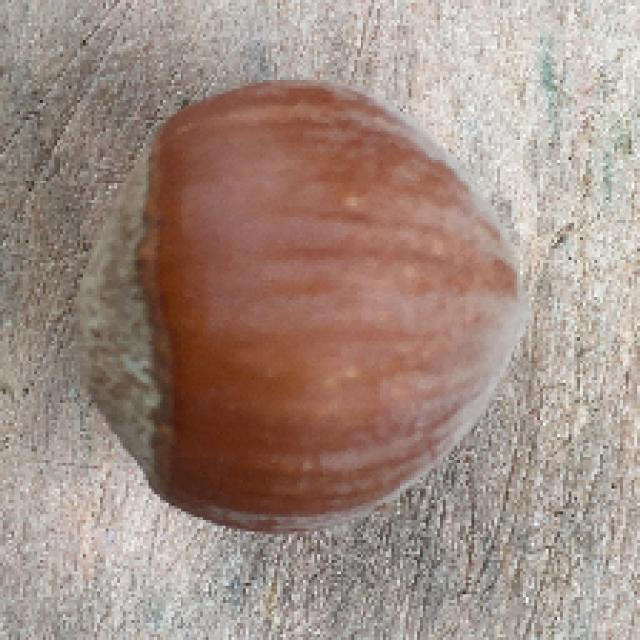QualityHazelnut: (73, 76, 533, 533)
